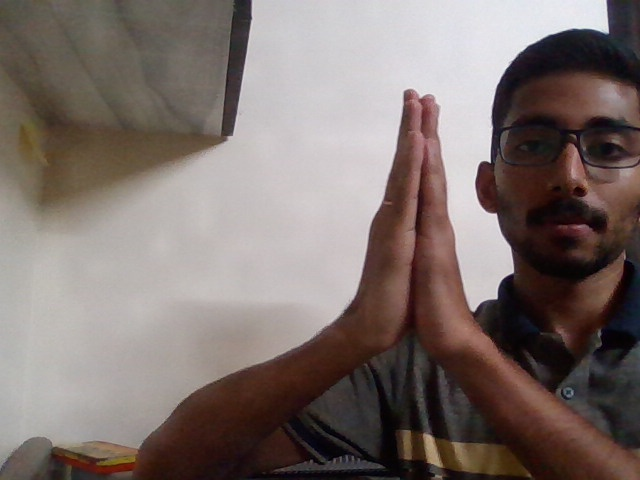Thank You: (328, 77, 492, 394)
